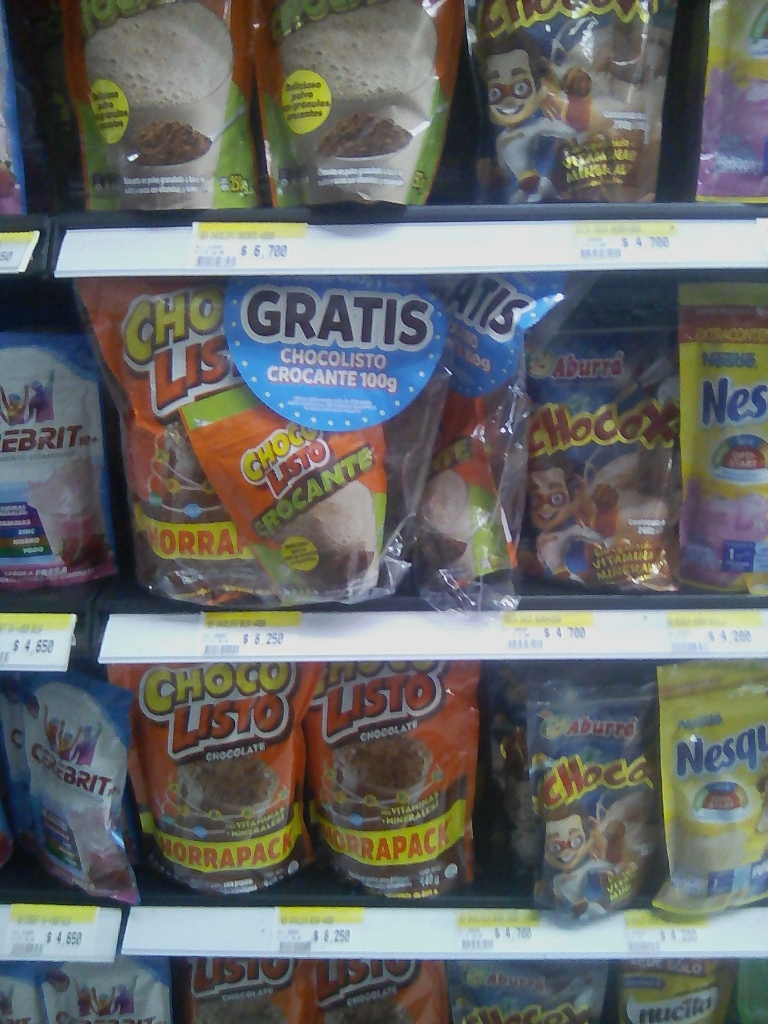COL0170102DYP10000: (185, 385, 427, 609)
COL0170103DYP44000: (117, 664, 314, 903)
COL0170306DYP20000: (654, 663, 768, 911)
